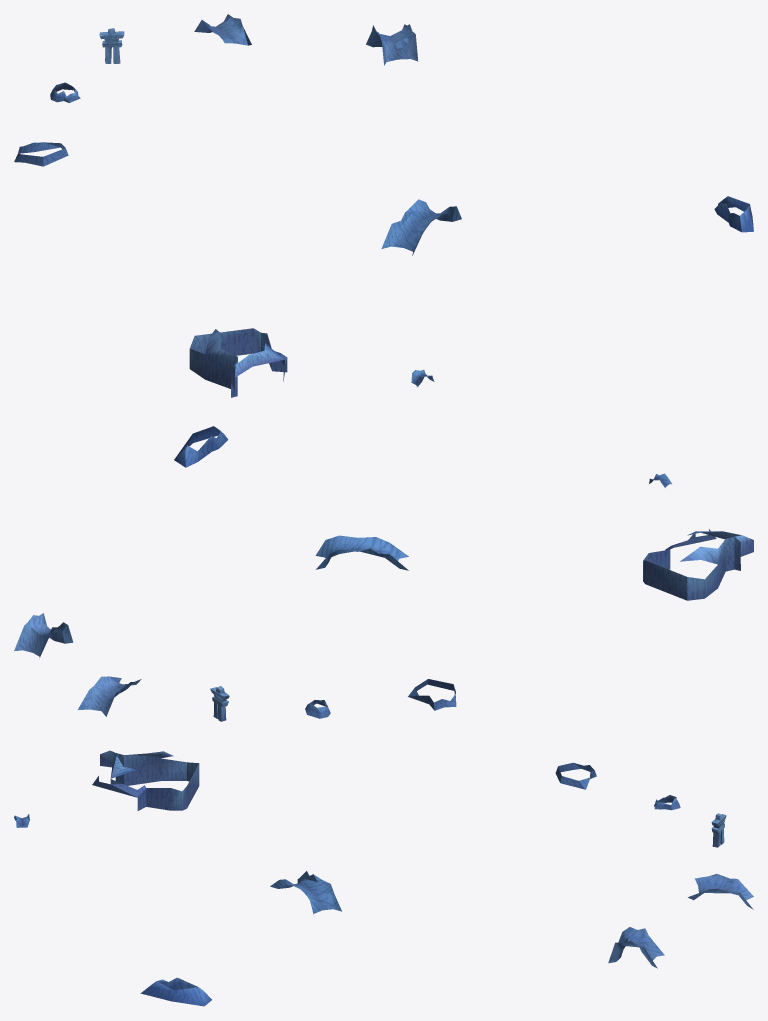
Rendered from object_50_lev2.glb.
The picture shows the model from 3 angles, top to bottom: view 1: azimuth 30°, elevation 25°; view 2: azimuth 150°, elevation 25°; view 3: azimuth 270°, elevation 25°; orthographic projection. The views are drawn at different scales.
Parts seen in each view (by area): view 1: object_50_lev2; view 2: object_50_lev2; view 3: object_50_lev2.
Boxes of the visible parts, x1,y1,x2,y2 form: object_50_lev2: (14, 14, 753, 397); object_50_lev2: (14, 426, 753, 721); object_50_lev2: (14, 750, 753, 1006).
Size of the model in its own units: 90.71 by 10.8 by 116.
1 material, 1 textured.
